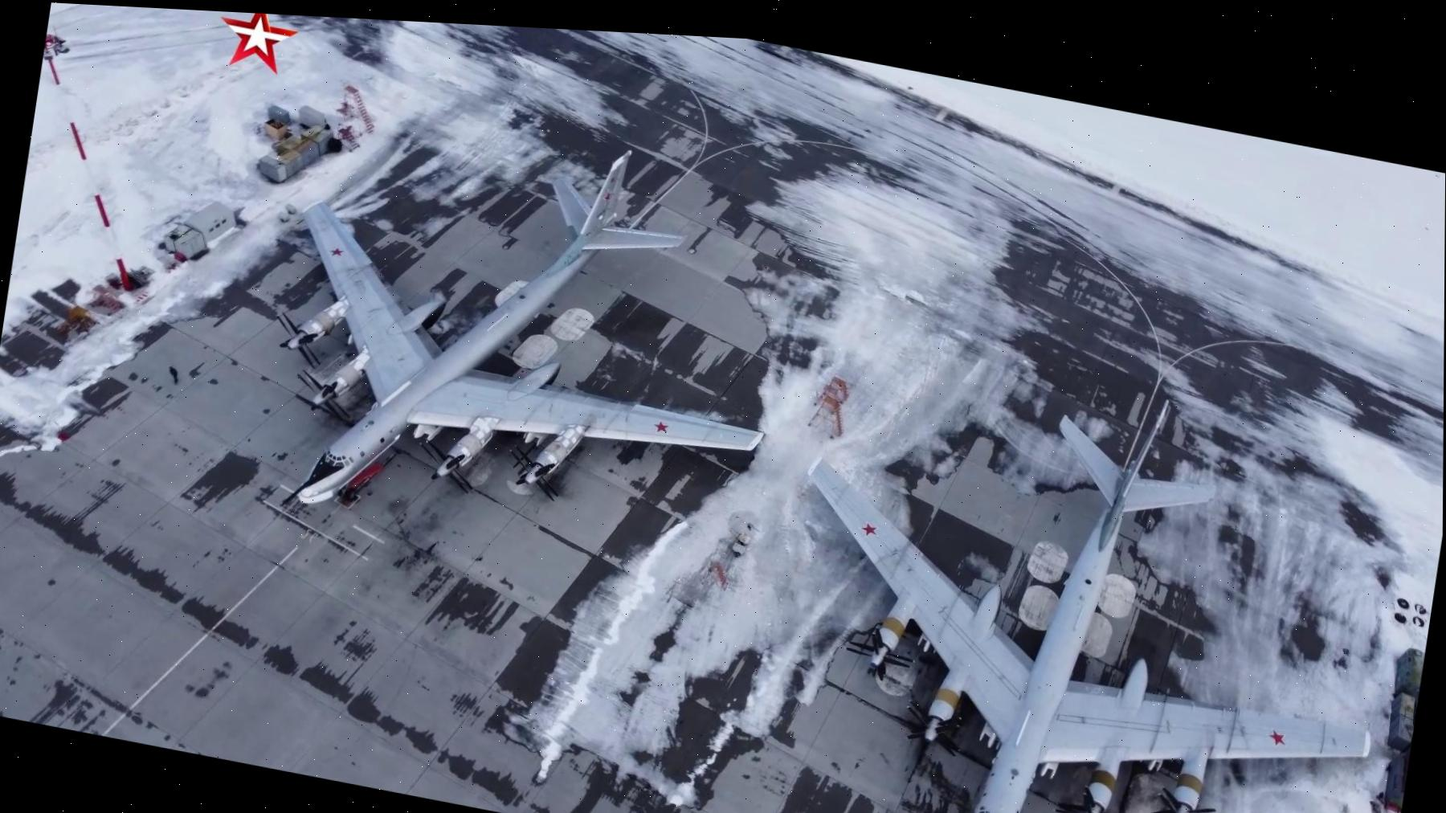plane: (744, 327, 1417, 813), (246, 84, 801, 610)
